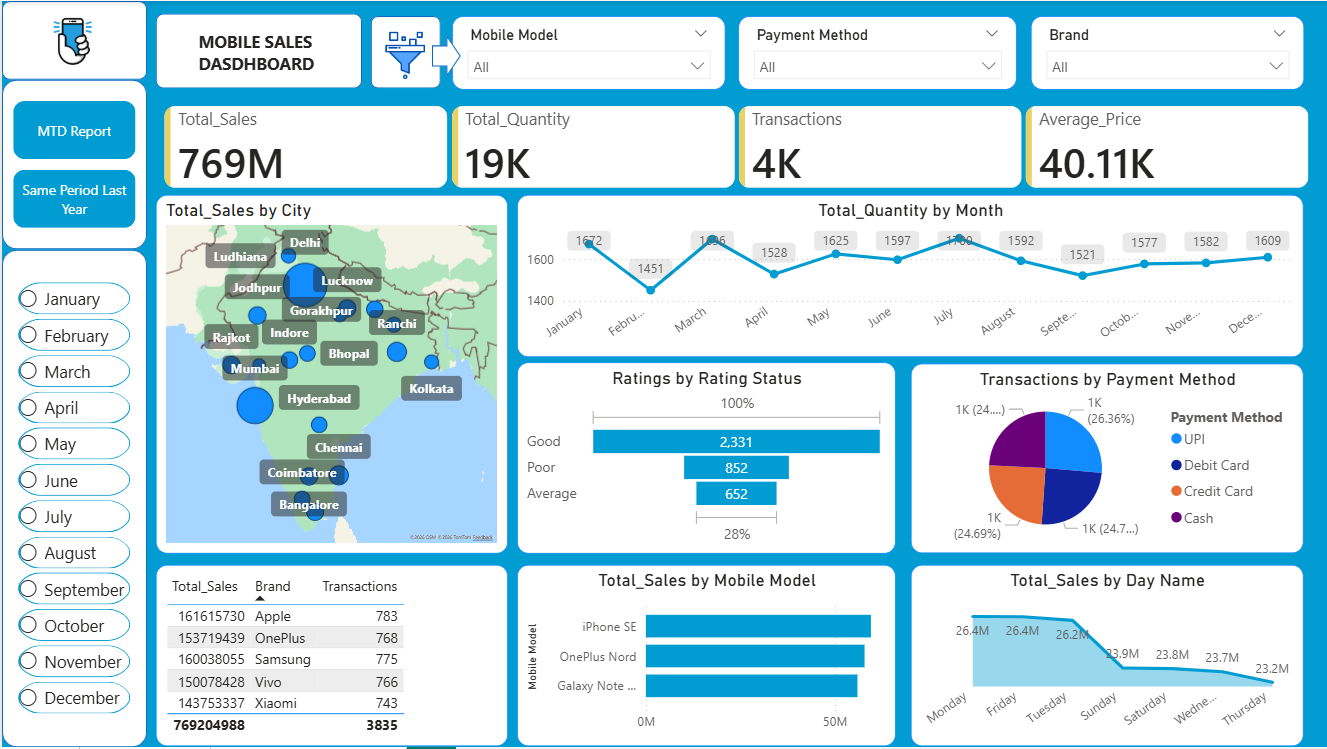

This screenshot's page, from the dashboard's own definition file:
{"tool":"powerbi","page":{"name":"Dashboard","canvas":[1280,720],"ordinal":0},"visuals":[{"type":"shape","box":[0,0,139.9,76],"z":0},{"type":"shape","box":[0,76.6,139.9,163.7],"z":1000},{"type":"shape","box":[0,240.1,139.9,480.2],"z":2000},{"type":"listSlicer","fields":{"Values":["Custom_Calendar.Date_.Variation.Date Hierarchy.Month"]},"box":[10.9,266.6,118.2,427.1],"z":3000},{"type":"image","box":[24.1,0,90.5,76],"z":4000},{"type":"cardVisual","fields":{"Data":["Sales_Data.Total_Sales","Sales_Data.Total_Quantity","Sales_Data.Transactions","Sales_Data.Average_Price"]},"box":[139.9,84.5,1140.1,113.4],"z":4003,"group":"g1"},{"type":"group","id":"g1","title":"Group 1","box":[139.9,84.5,1140.1,113.4],"z":5000},{"type":"slicer","fields":{"Values":["Sales_Data.Mobile Model"]},"box":[434.3,14.5,264.2,71.2],"z":6000},{"type":"slicer","fields":{"Values":["Sales_Data.Payment Method"]},"box":[710.6,14.5,269,71.2],"z":7000},{"type":"slicer","fields":{"Values":["Sales_Data.Brand"]},"box":[992.9,14.5,264.2,71.2],"z":8000},{"type":"shape","box":[355.9,14.5,67.6,70],"z":9000},{"type":"image","box":[365.6,29,47.1,47.1],"z":10000},{"type":"shape","box":[415,32.6,27.7,41],"z":11000},{"type":"shape","box":[148.4,12.1,199.1,72.4],"z":12000},{"type":"textbox","box":[184.6,22.9,153.2,54.3],"z":13000},{"type":"azureMap","fields":{"Category":["Sales_Data.City"],"Size":["Sales_Data.Total_Sales"]},"box":[148.4,187,340.2,346.2],"z":14000},{"type":"lineChart","fields":{"Category":["Custom_Calendar.Date_.Variation.Date Hierarchy.Month"],"Y":["Sales_Data.Total_Quantity"]},"box":[497.1,187,758.9,156.8],"z":15000},{"type":"funnel","title":" Ratings by Rating Status","fields":{"Category":["Sales_Data.Rating Status"],"Y":["CountNonNull(Sales_Data.Customer Ratings)"]},"box":[497.1,348.7,365.6,184.6],"z":16000},{"type":"pieChart","fields":{"Category":["Sales_Data.Payment Method"],"Y":["Sales_Data.Transactions"]},"box":[877.1,349.9,378.8,183.4],"z":17000},{"type":"clusteredBarChart","fields":{"Y":["Sales_Data.Total_Sales"],"Category":["Sales_Data.Mobile Model"]},"box":[497.1,544.1,365.6,174.9],"z":18000},{"type":"areaChart","fields":{"Category":["Custom_Calendar.Day Name"],"Y":["Sales_Data.Total_Sales"]},"box":[877.1,544.1,378.8,174.9],"z":19000},{"type":"tableEx","fields":{"Values":["Sales_Data.Total_Sales","Sales_Data.Brand","Sales_Data.Transactions"]},"box":[148.4,544.1,340.2,174.9],"z":20000},{"type":"pageNavigator","box":[10.9,96.5,118.2,123.1],"z":21000}]}

Visuals, with their boxes in screenshot pixels (x1, y1, x2, y2), scaled from the page's 1280x720 canvas onto the 1327x749 screenshot:
shape: (x1=0, y1=0, x2=145, y2=79)
shape: (x1=0, y1=80, x2=145, y2=250)
shape: (x1=0, y1=250, x2=145, y2=748)
listSlicer - Custom_Calendar.Date_.Variation.Date Hierarchy.Month: (x1=11, y1=277, x2=134, y2=722)
image: (x1=25, y1=0, x2=119, y2=79)
cardVisual - Sales_Data.Total_Sales x Sales_Data.Total_Quantity: (x1=145, y1=88, x2=1326, y2=206)
"Group 1" group: (x1=145, y1=88, x2=1326, y2=206)
slicer - Sales_Data.Mobile Model: (x1=450, y1=15, x2=724, y2=89)
slicer - Sales_Data.Payment Method: (x1=737, y1=15, x2=1016, y2=89)
slicer - Sales_Data.Brand: (x1=1029, y1=15, x2=1303, y2=89)
shape: (x1=369, y1=15, x2=439, y2=88)
image: (x1=379, y1=30, x2=428, y2=79)
shape: (x1=430, y1=34, x2=459, y2=77)
shape: (x1=154, y1=13, x2=360, y2=88)
textbox: (x1=191, y1=24, x2=350, y2=80)
azureMap - Sales_Data.City x Sales_Data.Total_Sales: (x1=154, y1=195, x2=507, y2=555)
lineChart - Custom_Calendar.Date_.Variation.Date Hierarchy.Month x Sales_Data.Total_Quantity: (x1=515, y1=195, x2=1302, y2=358)
" Ratings by Rating Status" funnel: (x1=515, y1=363, x2=894, y2=555)
pieChart - Sales_Data.Payment Method x Sales_Data.Transactions: (x1=909, y1=364, x2=1302, y2=555)
clusteredBarChart - Sales_Data.Total_Sales x Sales_Data.Mobile Model: (x1=515, y1=566, x2=894, y2=748)
areaChart - Custom_Calendar.Day Name x Sales_Data.Total_Sales: (x1=909, y1=566, x2=1302, y2=748)
tableEx - Sales_Data.Total_Sales x Sales_Data.Brand: (x1=154, y1=566, x2=507, y2=748)
pageNavigator: (x1=11, y1=100, x2=134, y2=228)
